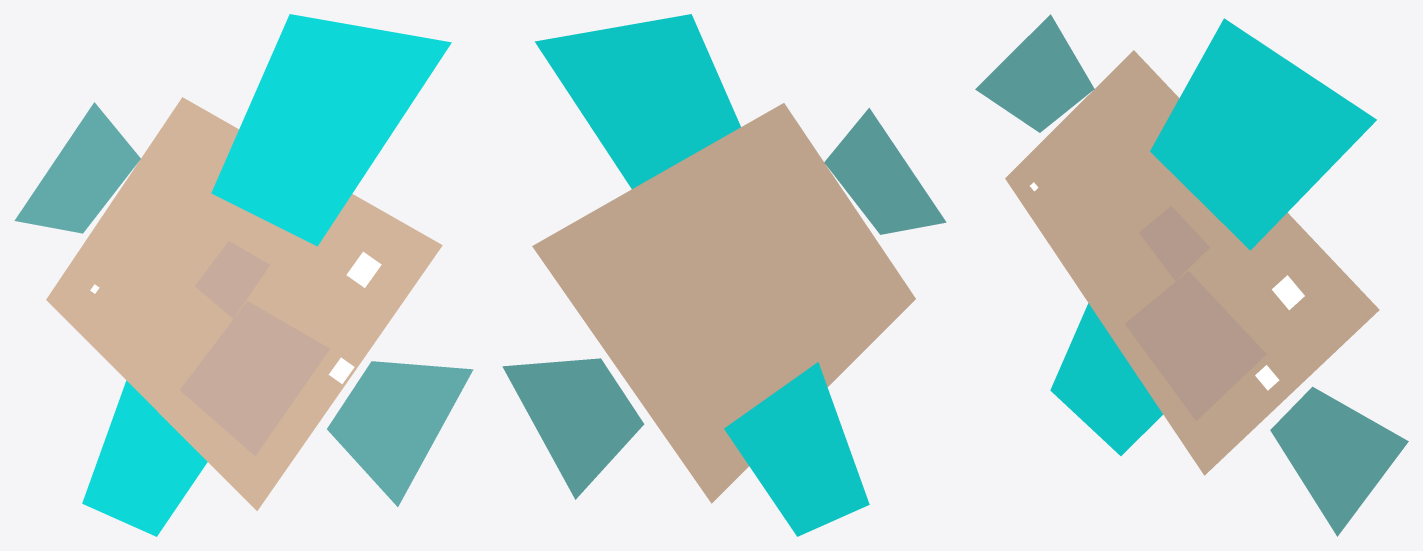
Rendered from satellite.gltf.
3 renders of one model, left to right at view 1: azimuth 30°, elevation 25°; view 2: azimuth 150°, elevation 25°; view 3: azimuth 330°, elevation 25°, orthographic. The views are drawn at different scales.
Visible parts, largest first — view 1: body, wing2, texture, spout2, wing1, spout, texture2, flash; view 2: body, wing2, wing1, spout2, spout; view 3: body, wing2, texture, spout2, wing1, spout, texture2, flash.
Boxes of the visible parts, x1=… form: body: x1=46, y1=97, x2=442, y2=510; wing2: x1=211, y1=14, x2=451, y2=246; texture: x1=180, y1=301, x2=329, y2=456; spout2: x1=327, y1=361, x2=473, y2=506; wing1: x1=82, y1=380, x2=207, y2=536; spout: x1=14, y1=102, x2=140, y2=233; texture2: x1=195, y1=241, x2=269, y2=318; flash: x1=346, y1=251, x2=381, y2=287; body: x1=532, y1=103, x2=915, y2=503; wing2: x1=534, y1=14, x2=740, y2=188; wing1: x1=724, y1=362, x2=869, y2=536; spout2: x1=502, y1=358, x2=644, y2=499; spout: x1=824, y1=107, x2=946, y2=234; body: x1=1005, y1=50, x2=1379, y2=475; wing2: x1=1150, y1=18, x2=1376, y2=250; texture: x1=1125, y1=271, x2=1266, y2=420; spout2: x1=1270, y1=386, x2=1408, y2=536; wing1: x1=1050, y1=303, x2=1162, y2=455; spout: x1=975, y1=14, x2=1094, y2=132; texture2: x1=1139, y1=206, x2=1209, y2=280; flash: x1=1272, y1=275, x2=1304, y2=310.
Bounding box in the file's own units: 66.83 × 73.09 × 3.77.
